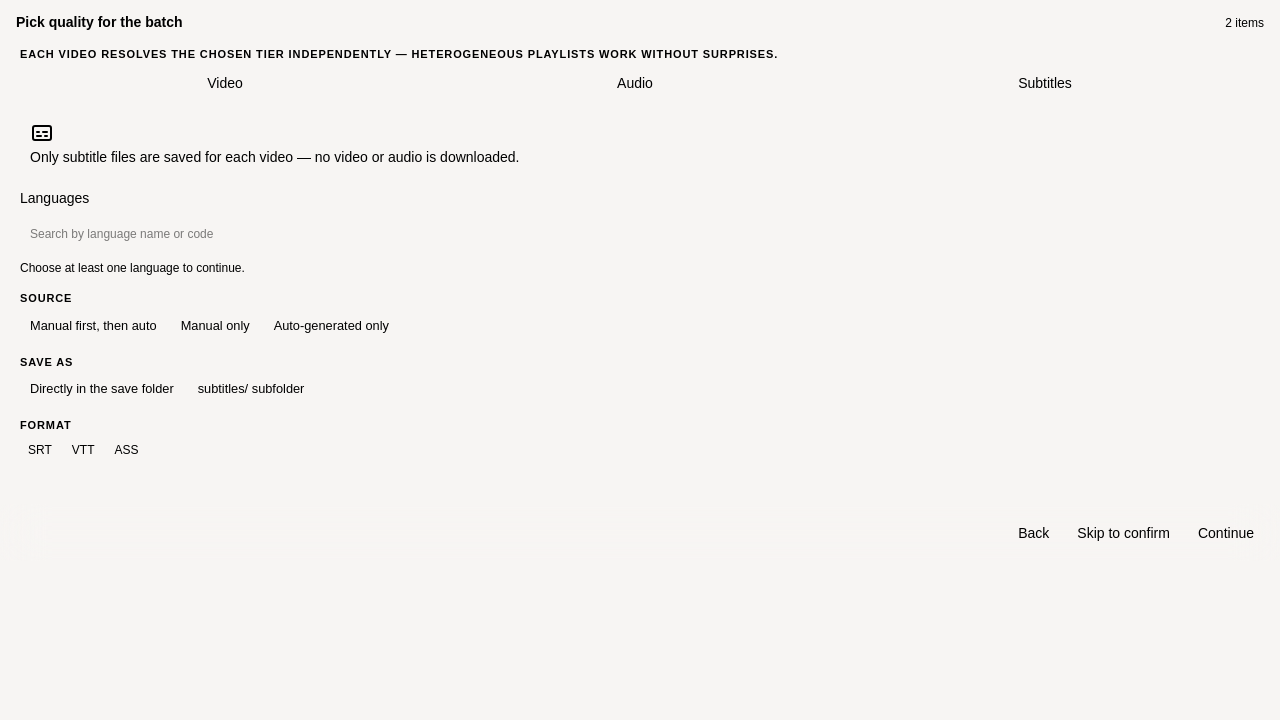
Scenario: StepPlaylistPresets · subtitles batch › blocks continuing until at least one language is chosen
Expected: the text "Choose at least one language to continue." is shown, [20,261,245,275]
Expected: the button "Continue" is disabled, [1188,517,1264,549]
// Base UI only opens the list for input events that carry an `inputType`.
In the dropdown labelled "Languages": (635, 234) [30,226,1240,242], type "polish"
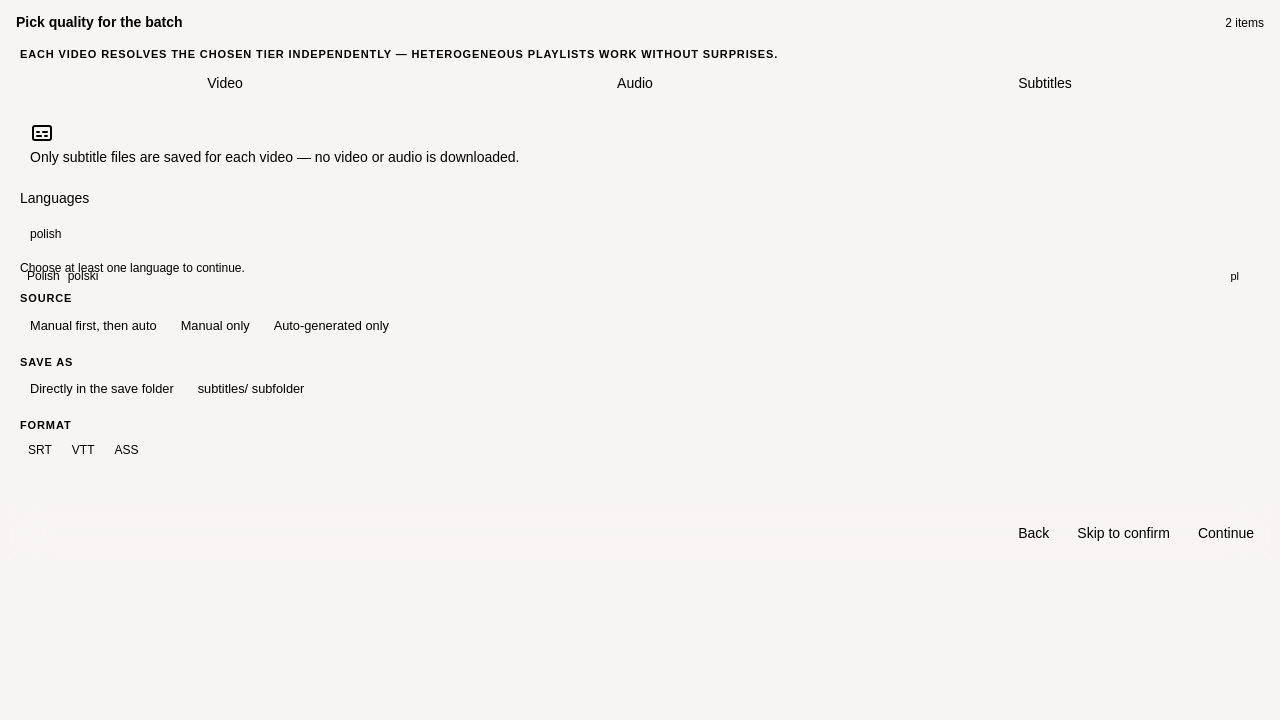
Click the option with test id "playlist-subtitle-language-option-pl": (43, 276) [27,269,1239,283]
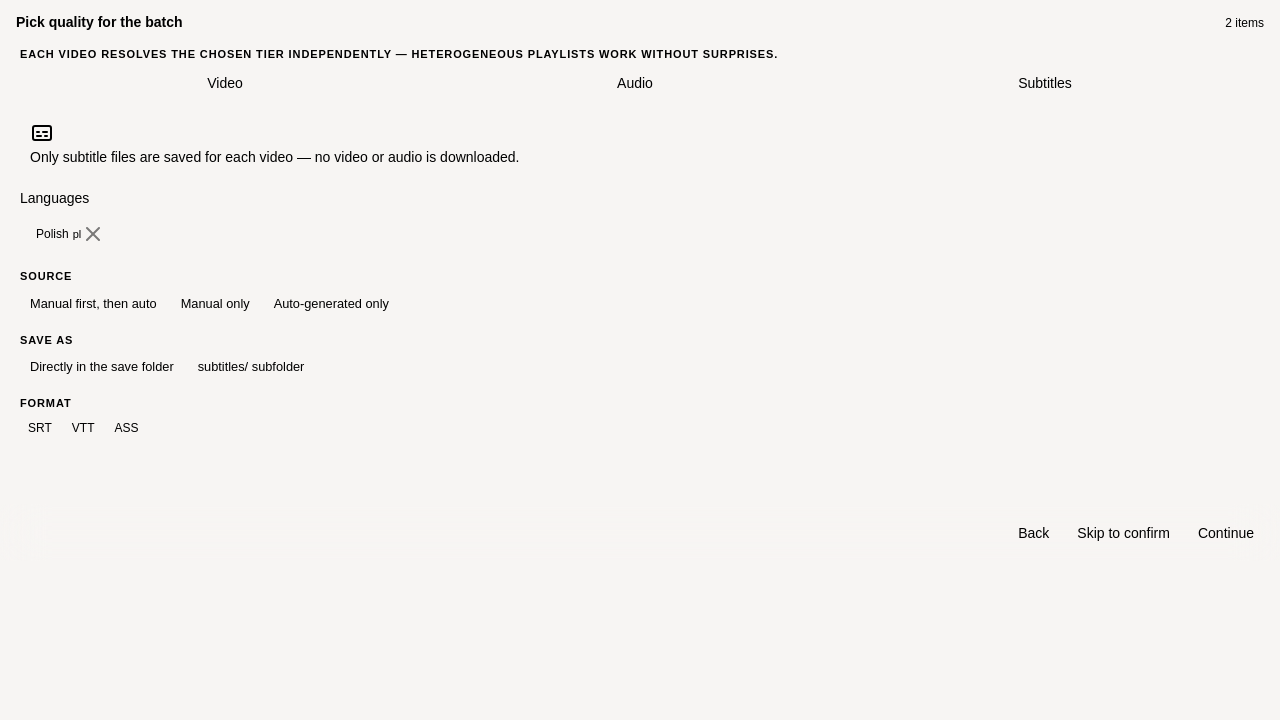
Expected: the button "Continue" is enabled, [1188,517,1264,549]
Expected: the text "Choose at least one language to continue." is gone
